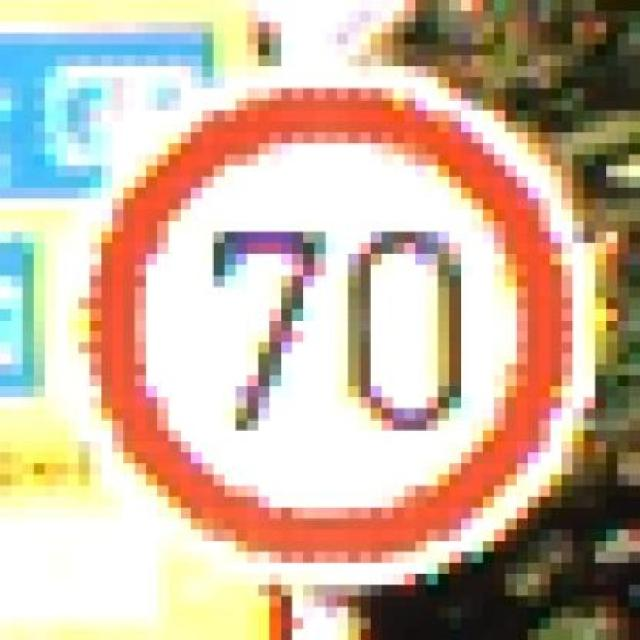forb_speed_over_70: (88, 80, 590, 569)
